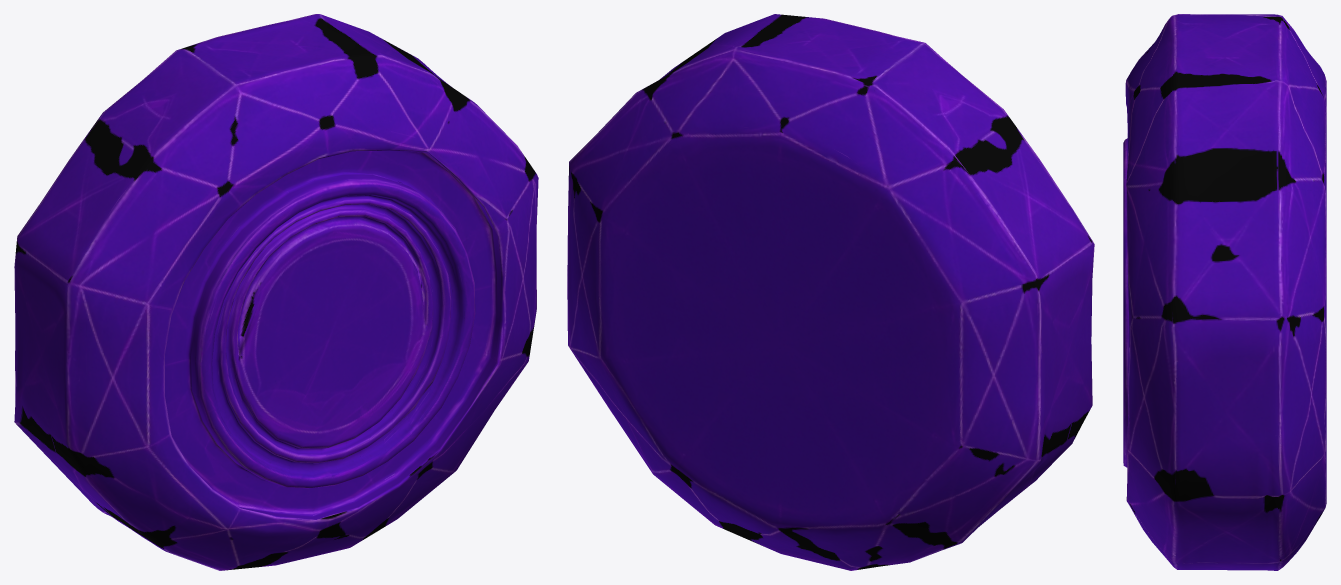
File: bonus_kick_LOW_5k.fbx
3 renders of one model, left to right at view 1: azimuth 30°, elevation 25°; view 2: azimuth 150°, elevation 25°; view 3: azimuth 270°, elevation 25°, orthographic.
Visible parts, largest first — view 1: HIGH; view 2: HIGH; view 3: HIGH.
Boxes of the visible parts, x1,y1,x2,y2 form: HIGH: (14, 14, 538, 570); HIGH: (567, 14, 1094, 570); HIGH: (1123, 14, 1326, 570).
Size of the model in its own units: 1.9 by 1.9 by 0.7081.
